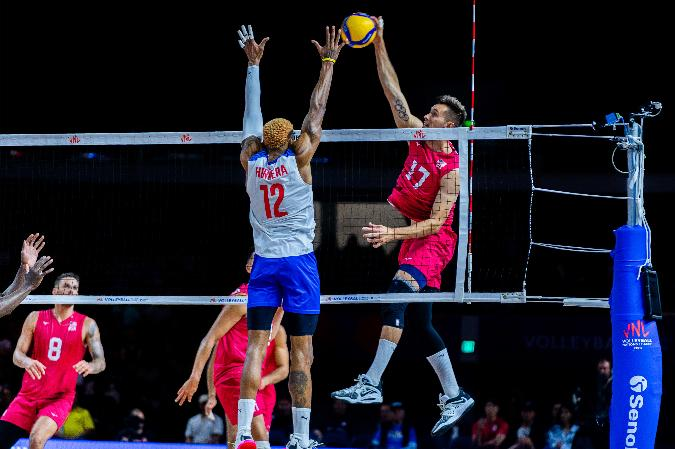ballon_volley: (339, 11, 378, 49)
